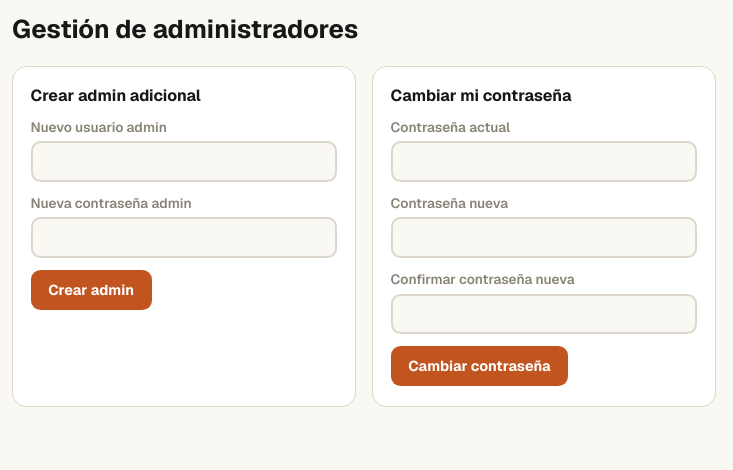
AdminManagement (T54, RF-6, RF-10) › changes the admin's own password
Type "Sup3rSecreta" into the password field labelled "Contraseña actual" at (544, 162), box [391,141,697,182]
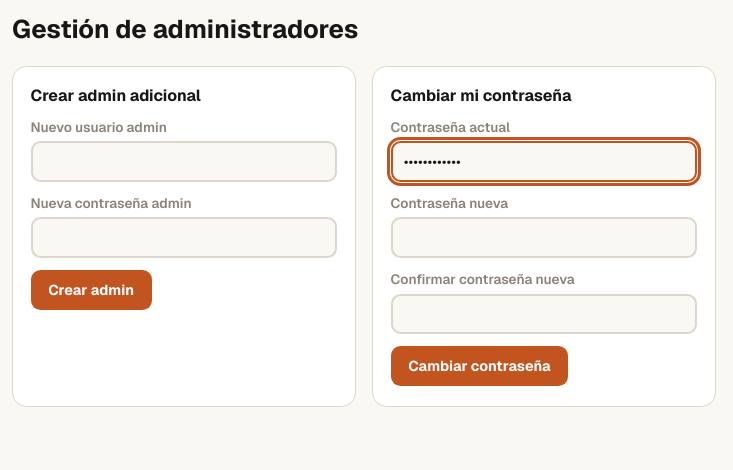
Type "NuevaClave9" into the password field labelled "Contraseña nueva" at (544, 238), box [391,217,697,258]
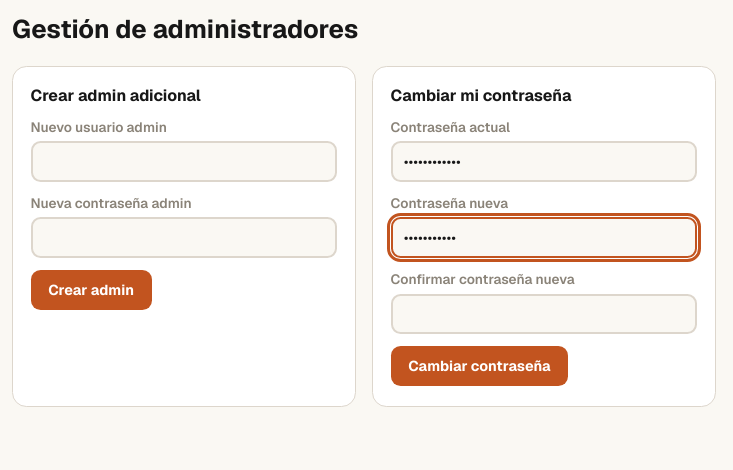
Type "NuevaClave9" into the password field labelled "Confirmar contraseña nueva" at (544, 314), box [391,294,697,334]
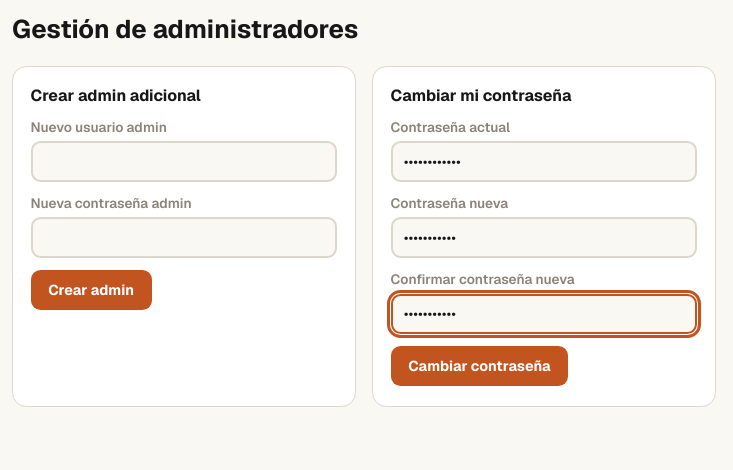
Click the button "Cambiar contraseña" at (479, 366), box [391,346,568,386]
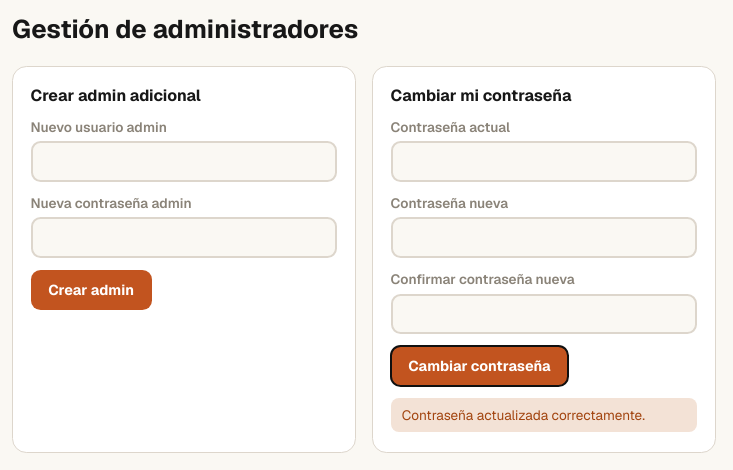
expect the text "Contraseña actualizada correctamente." is shown: met, box [391,398,697,432]
